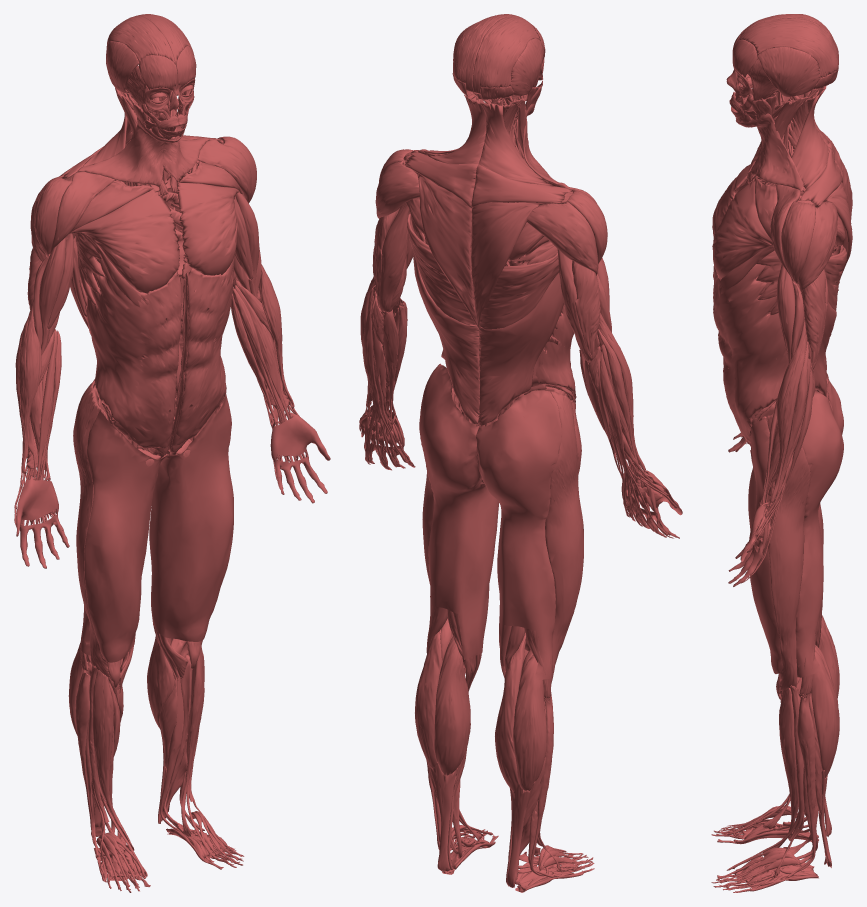
The model's file is muscular-v1.glb.
The picture shows the model from 3 angles, left to right: view 1: azimuth 30°, elevation 25°; view 2: azimuth 150°, elevation 25°; view 3: azimuth 270°, elevation 25°; orthographic projection. The views are drawn at different scales.
Parts seen in each view (by area): view 1: tensor_fasciae_latae, external_oblique, pectoralis_major, deltoid, frontalis, hand_intrinsics, superficial_flexors, platysma, biceps_brachii, tibialis_anterior, brachioradialis, foot_intrinsics (+18 smaller); view 2: tensor_fasciae_latae, trapezius, latissimus_dorsi, gastrocnemius, superficial_extensors, deltoid, triceps_brachii, frontalis, soleus, hand_intrinsics, foot_intrinsics, superficial_flexors (+11 smaller); view 3: tensor_fasciae_latae, external_oblique, frontalis, pectoralis_major, deltoid, trapezius, foot_intrinsics, gastrocnemius, platysma, superficial_extensors, fibularis, brachioradialis (+19 smaller).
Boxes of the visible parts, x1,y1,x2,y2 form: tensor_fasciae_latae: [73, 379, 233, 677]; external_oblique: [86, 259, 233, 448]; pectoralis_major: [70, 161, 242, 307]; deltoid: [30, 136, 256, 261]; frontalis: [106, 14, 196, 93]; hand_intrinsics: [15, 412, 330, 568]; superficial_flexors: [35, 285, 290, 515]; platysma: [78, 111, 209, 186]; biceps_brachii: [39, 192, 259, 354]; tibialis_anterior: [92, 646, 204, 850]; brachioradialis: [19, 264, 294, 474]; foot_intrinsics: [94, 811, 242, 889]; tensor_fasciae_latae: [419, 363, 583, 683]; trapezius: [404, 97, 572, 328]; latissimus_dorsi: [407, 214, 563, 425]; gastrocnemius: [415, 629, 546, 791]; superficial_extensors: [360, 280, 668, 534]; deltoid: [375, 149, 607, 275]; triceps_brachii: [372, 203, 600, 363]; frontalis: [453, 14, 545, 95]; soleus: [428, 701, 546, 887]; hand_intrinsics: [361, 405, 682, 538]; foot_intrinsics: [441, 825, 592, 892]; superficial_flexors: [381, 298, 656, 506]; tensor_fasciae_latae: [748, 373, 843, 691]; external_oblique: [713, 264, 788, 443]; frontalis: [732, 14, 838, 96]; pectoralis_major: [712, 164, 777, 293]; deltoid: [770, 131, 837, 292]; trapezius: [791, 86, 852, 278]; foot_intrinsics: [716, 805, 818, 892]; gastrocnemius: [811, 615, 839, 777]; platysma: [736, 113, 803, 191]; superficial_extensors: [747, 341, 813, 576]; fibularis: [771, 692, 817, 877]; brachioradialis: [769, 319, 807, 503].
Size of the model in its own units: 0.6707 by 1.7 by 0.2584.
